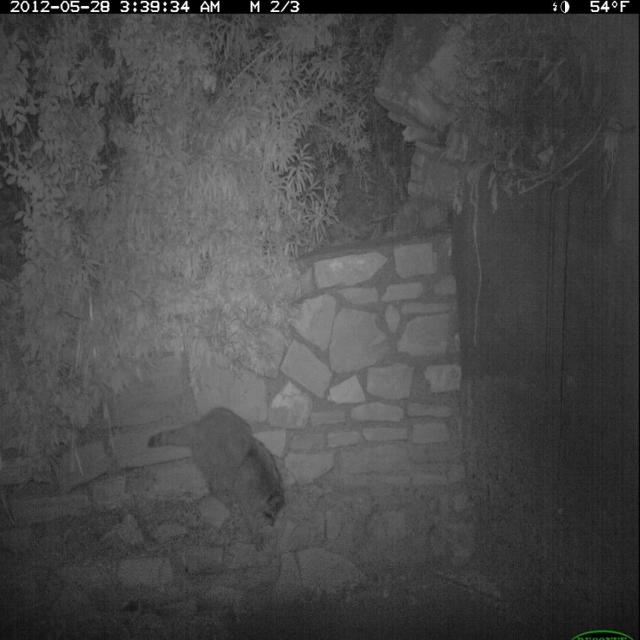raccoon: (136, 387, 298, 554)
